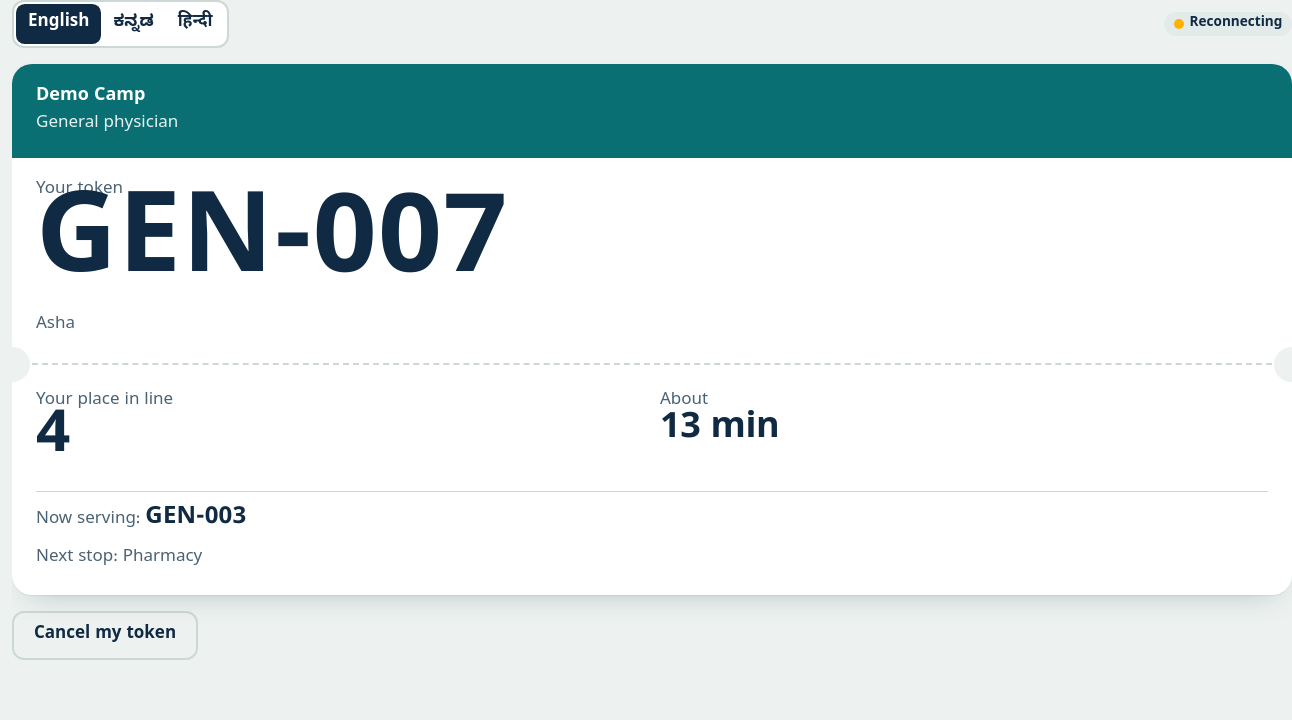
Test: TokenTracker › asks before cancelling
Click the button "Cancel my token".
click(105, 636)  # box [12, 611, 198, 660]
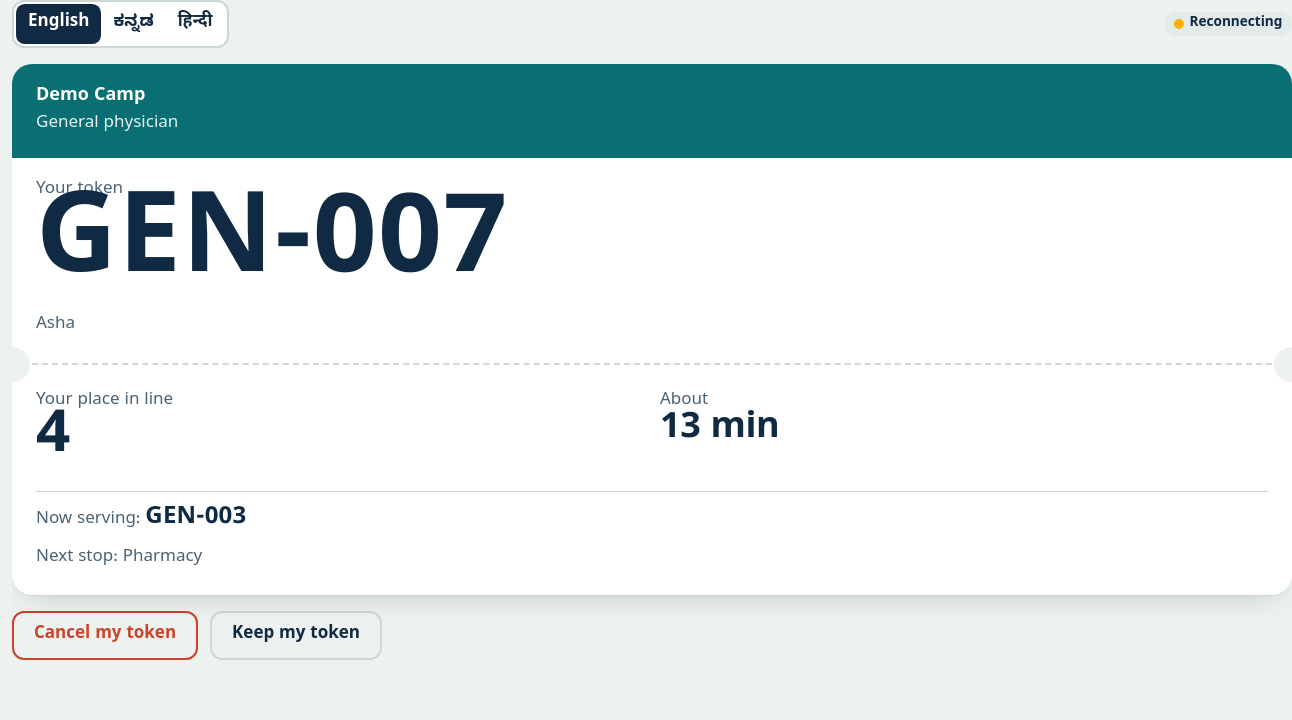
expect the button "Keep my token" is shown: met, box [210, 611, 382, 660]
